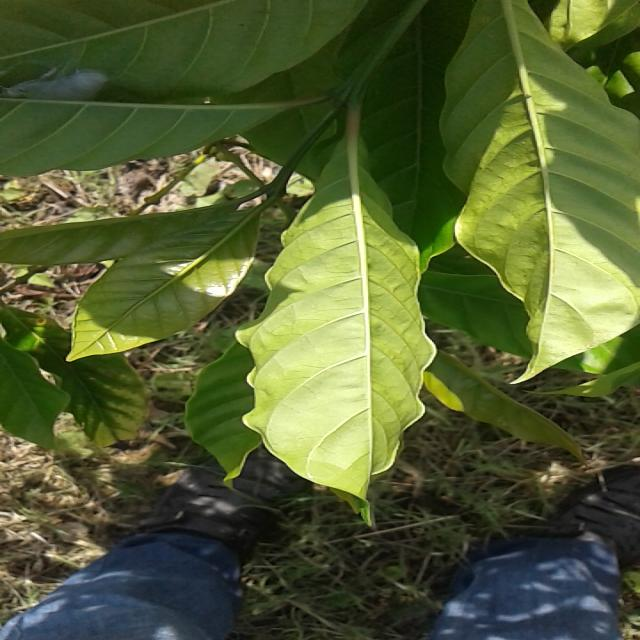Sanas: (234, 168, 437, 525)
